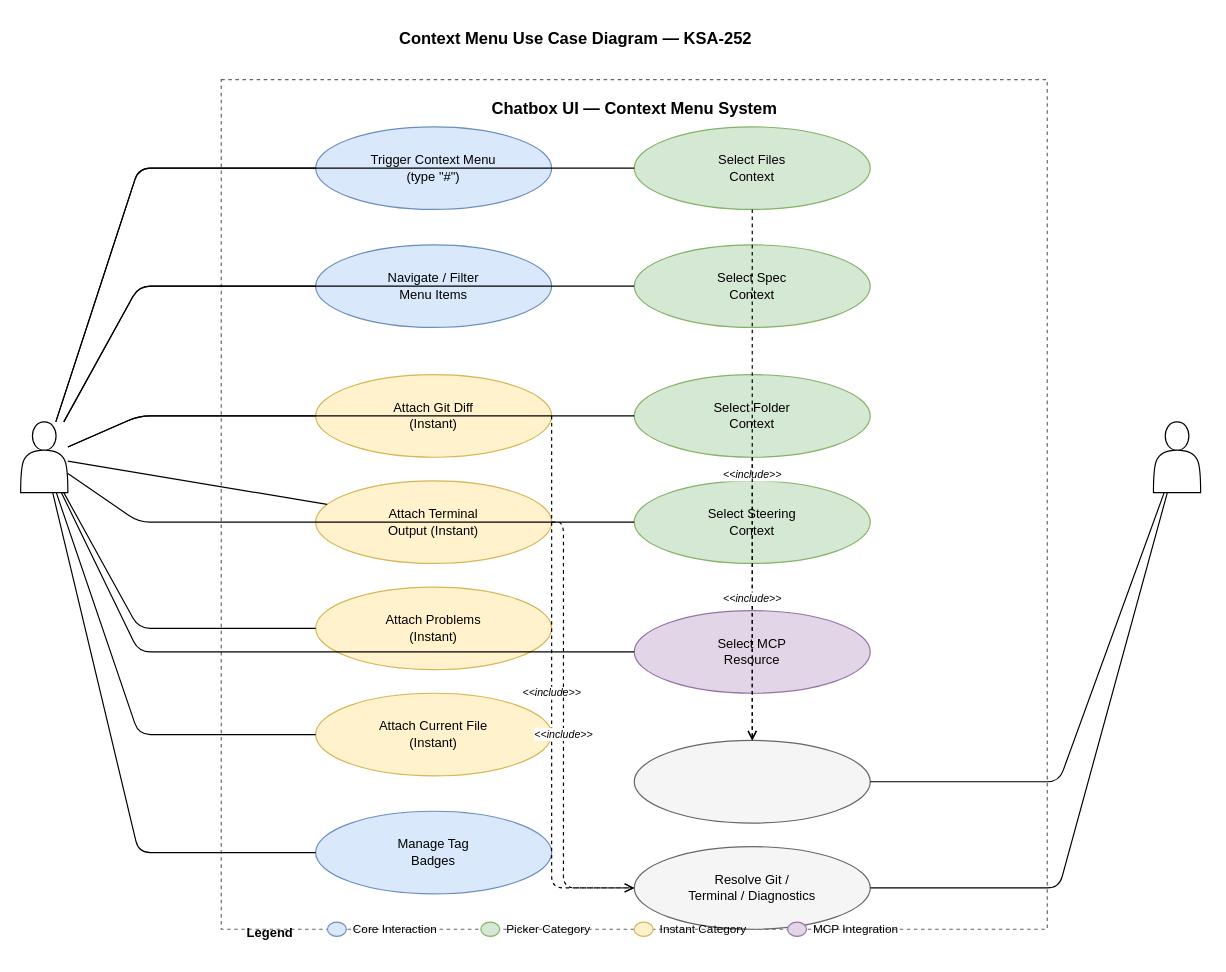
This 1226x972 diagram has some shape labels left out. Here are the shapes that lost their labels. From the top down, the box of each, then its label:
(19, 421, 68, 493): User
(1152, 421, 1201, 493): Extension Host
(633, 739, 870, 823): Resolve File System Data
